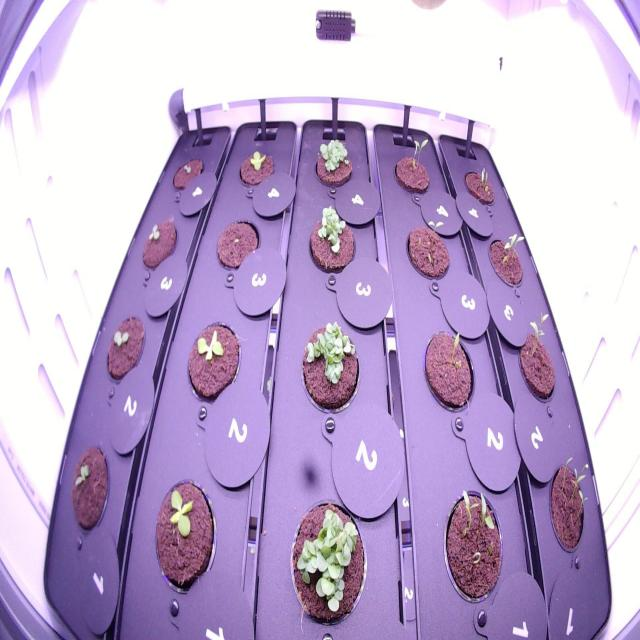germination: (282, 494, 373, 633), (440, 478, 507, 613), (298, 313, 370, 422), (540, 434, 599, 565), (419, 322, 478, 422), (64, 438, 116, 544), (513, 306, 564, 413), (303, 200, 360, 282), (402, 209, 456, 290), (100, 306, 150, 387), (483, 218, 532, 298), (385, 127, 436, 201), (306, 132, 358, 196), (136, 208, 181, 278), (459, 152, 500, 218), (168, 150, 210, 200)
pod: (212, 214, 264, 278)
young: (145, 471, 222, 605), (181, 312, 244, 412), (234, 143, 279, 194)
